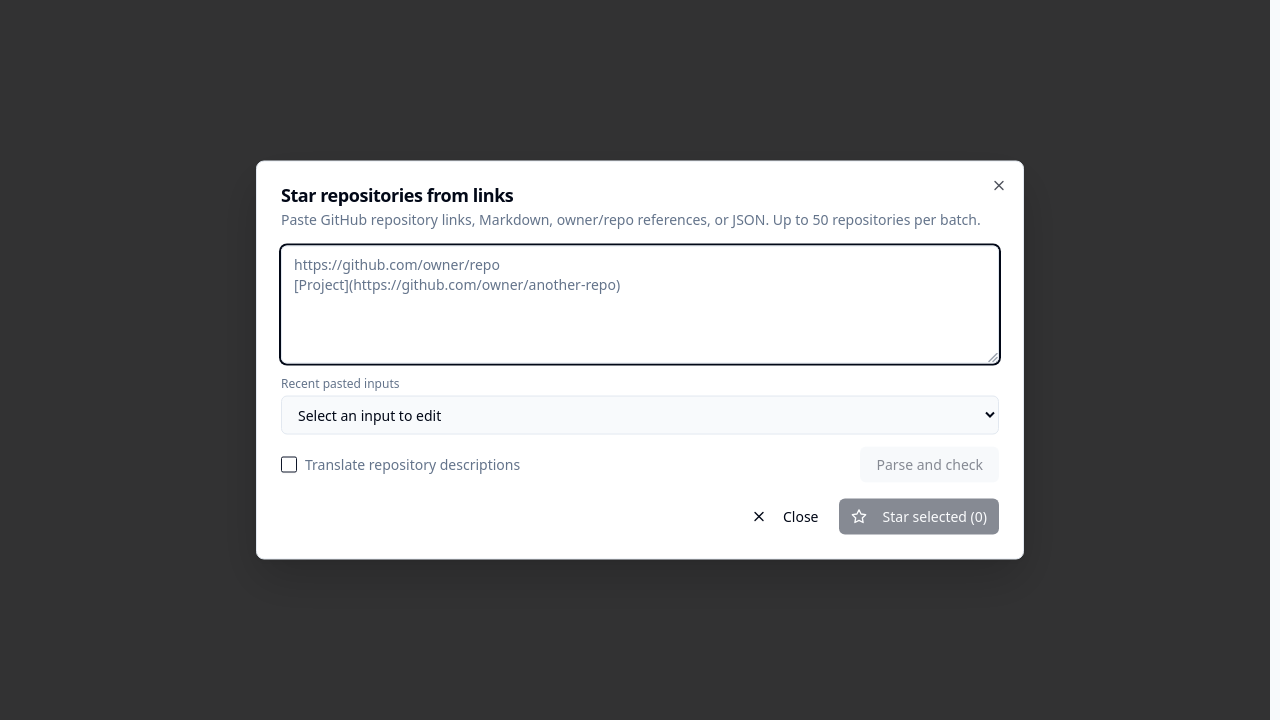
Test: BatchStarImportDialog › stores the last ten pasted inputs per GitHub account and lets the user edit a history entry
Select "owner/repo-7" in the dropdown labelled "Recent pasted inputs" at (640, 415), box [281,396,999,434]
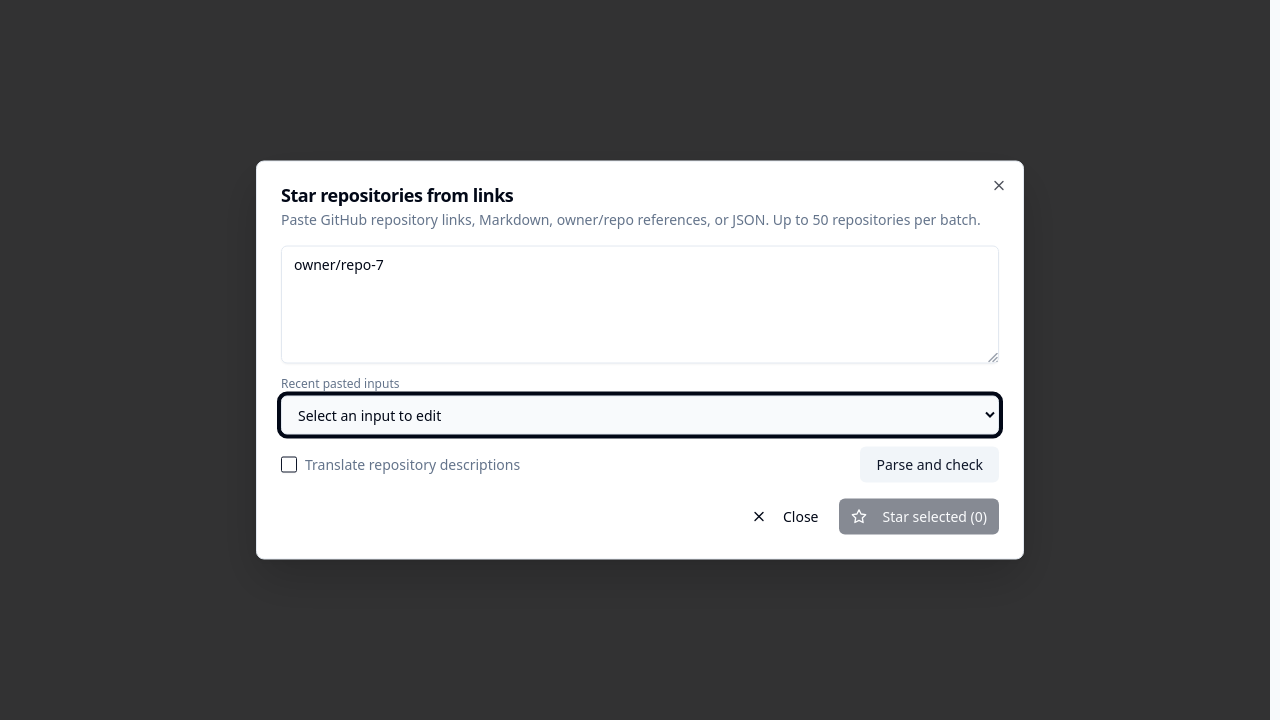
Check: the text box named "Repository links or JSON" holds "owner/repo-7", box [281,246,999,364]
